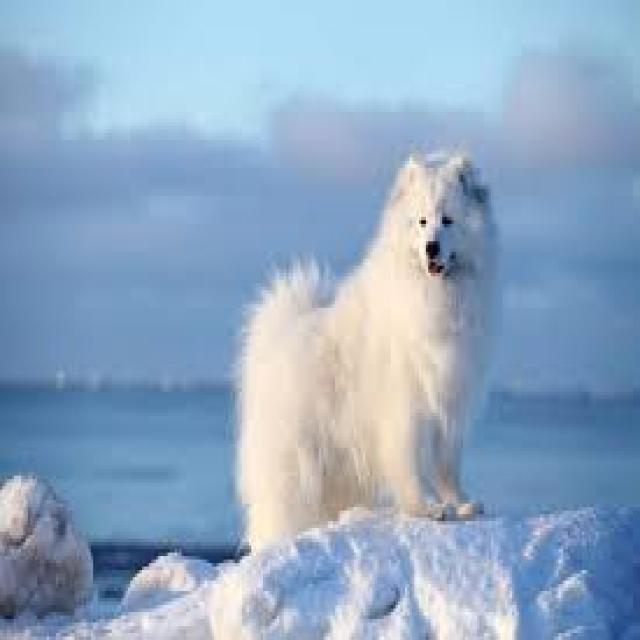dogs: (225, 143, 502, 558)
